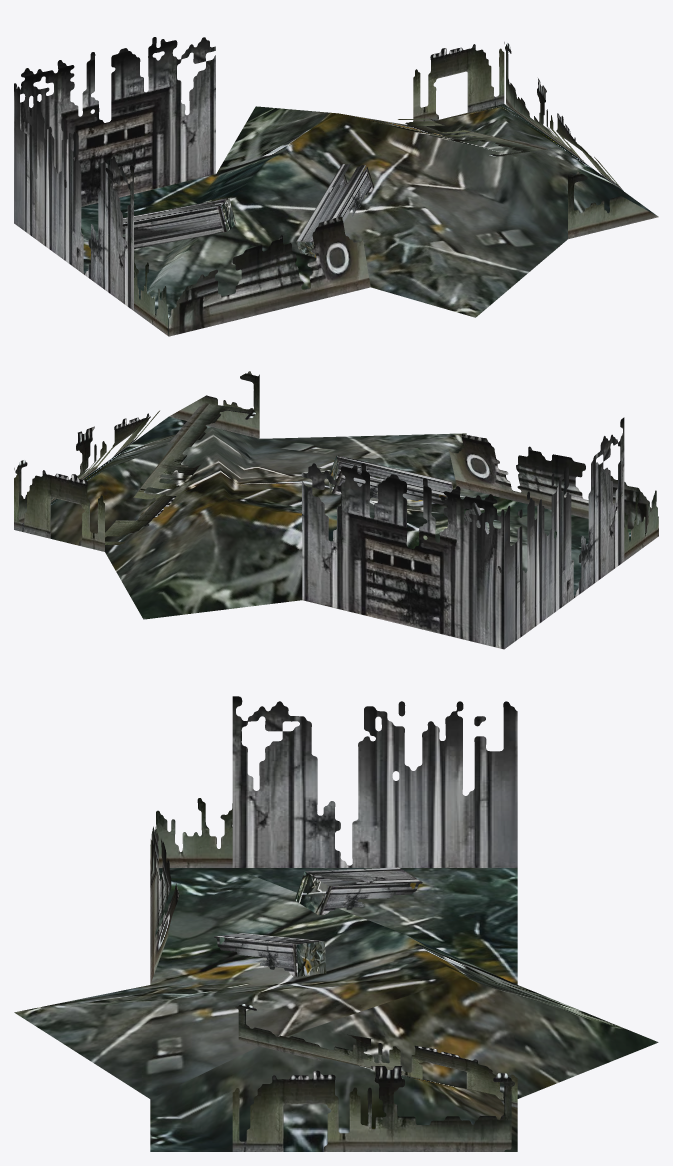
File: factorylg_dam_hdtex.glb
3 renders of one model, top to bottom at view 1: azimuth 30°, elevation 25°; view 2: azimuth 150°, elevation 25°; view 3: azimuth 270°, elevation 25°, orthographic. The views are drawn at different scales.
Visible parts, largest first — view 1: Object01; view 2: Object01; view 3: Object01.
Part boxes in pixels (bbox=[...]): Object01: bbox=[14, 37, 658, 336]; Object01: bbox=[14, 371, 658, 649]; Object01: bbox=[14, 696, 658, 1151].
Size of the model in its own units: 29.52 by 9.49 by 28.33.
Materials: 2 (2 with a texture image).
